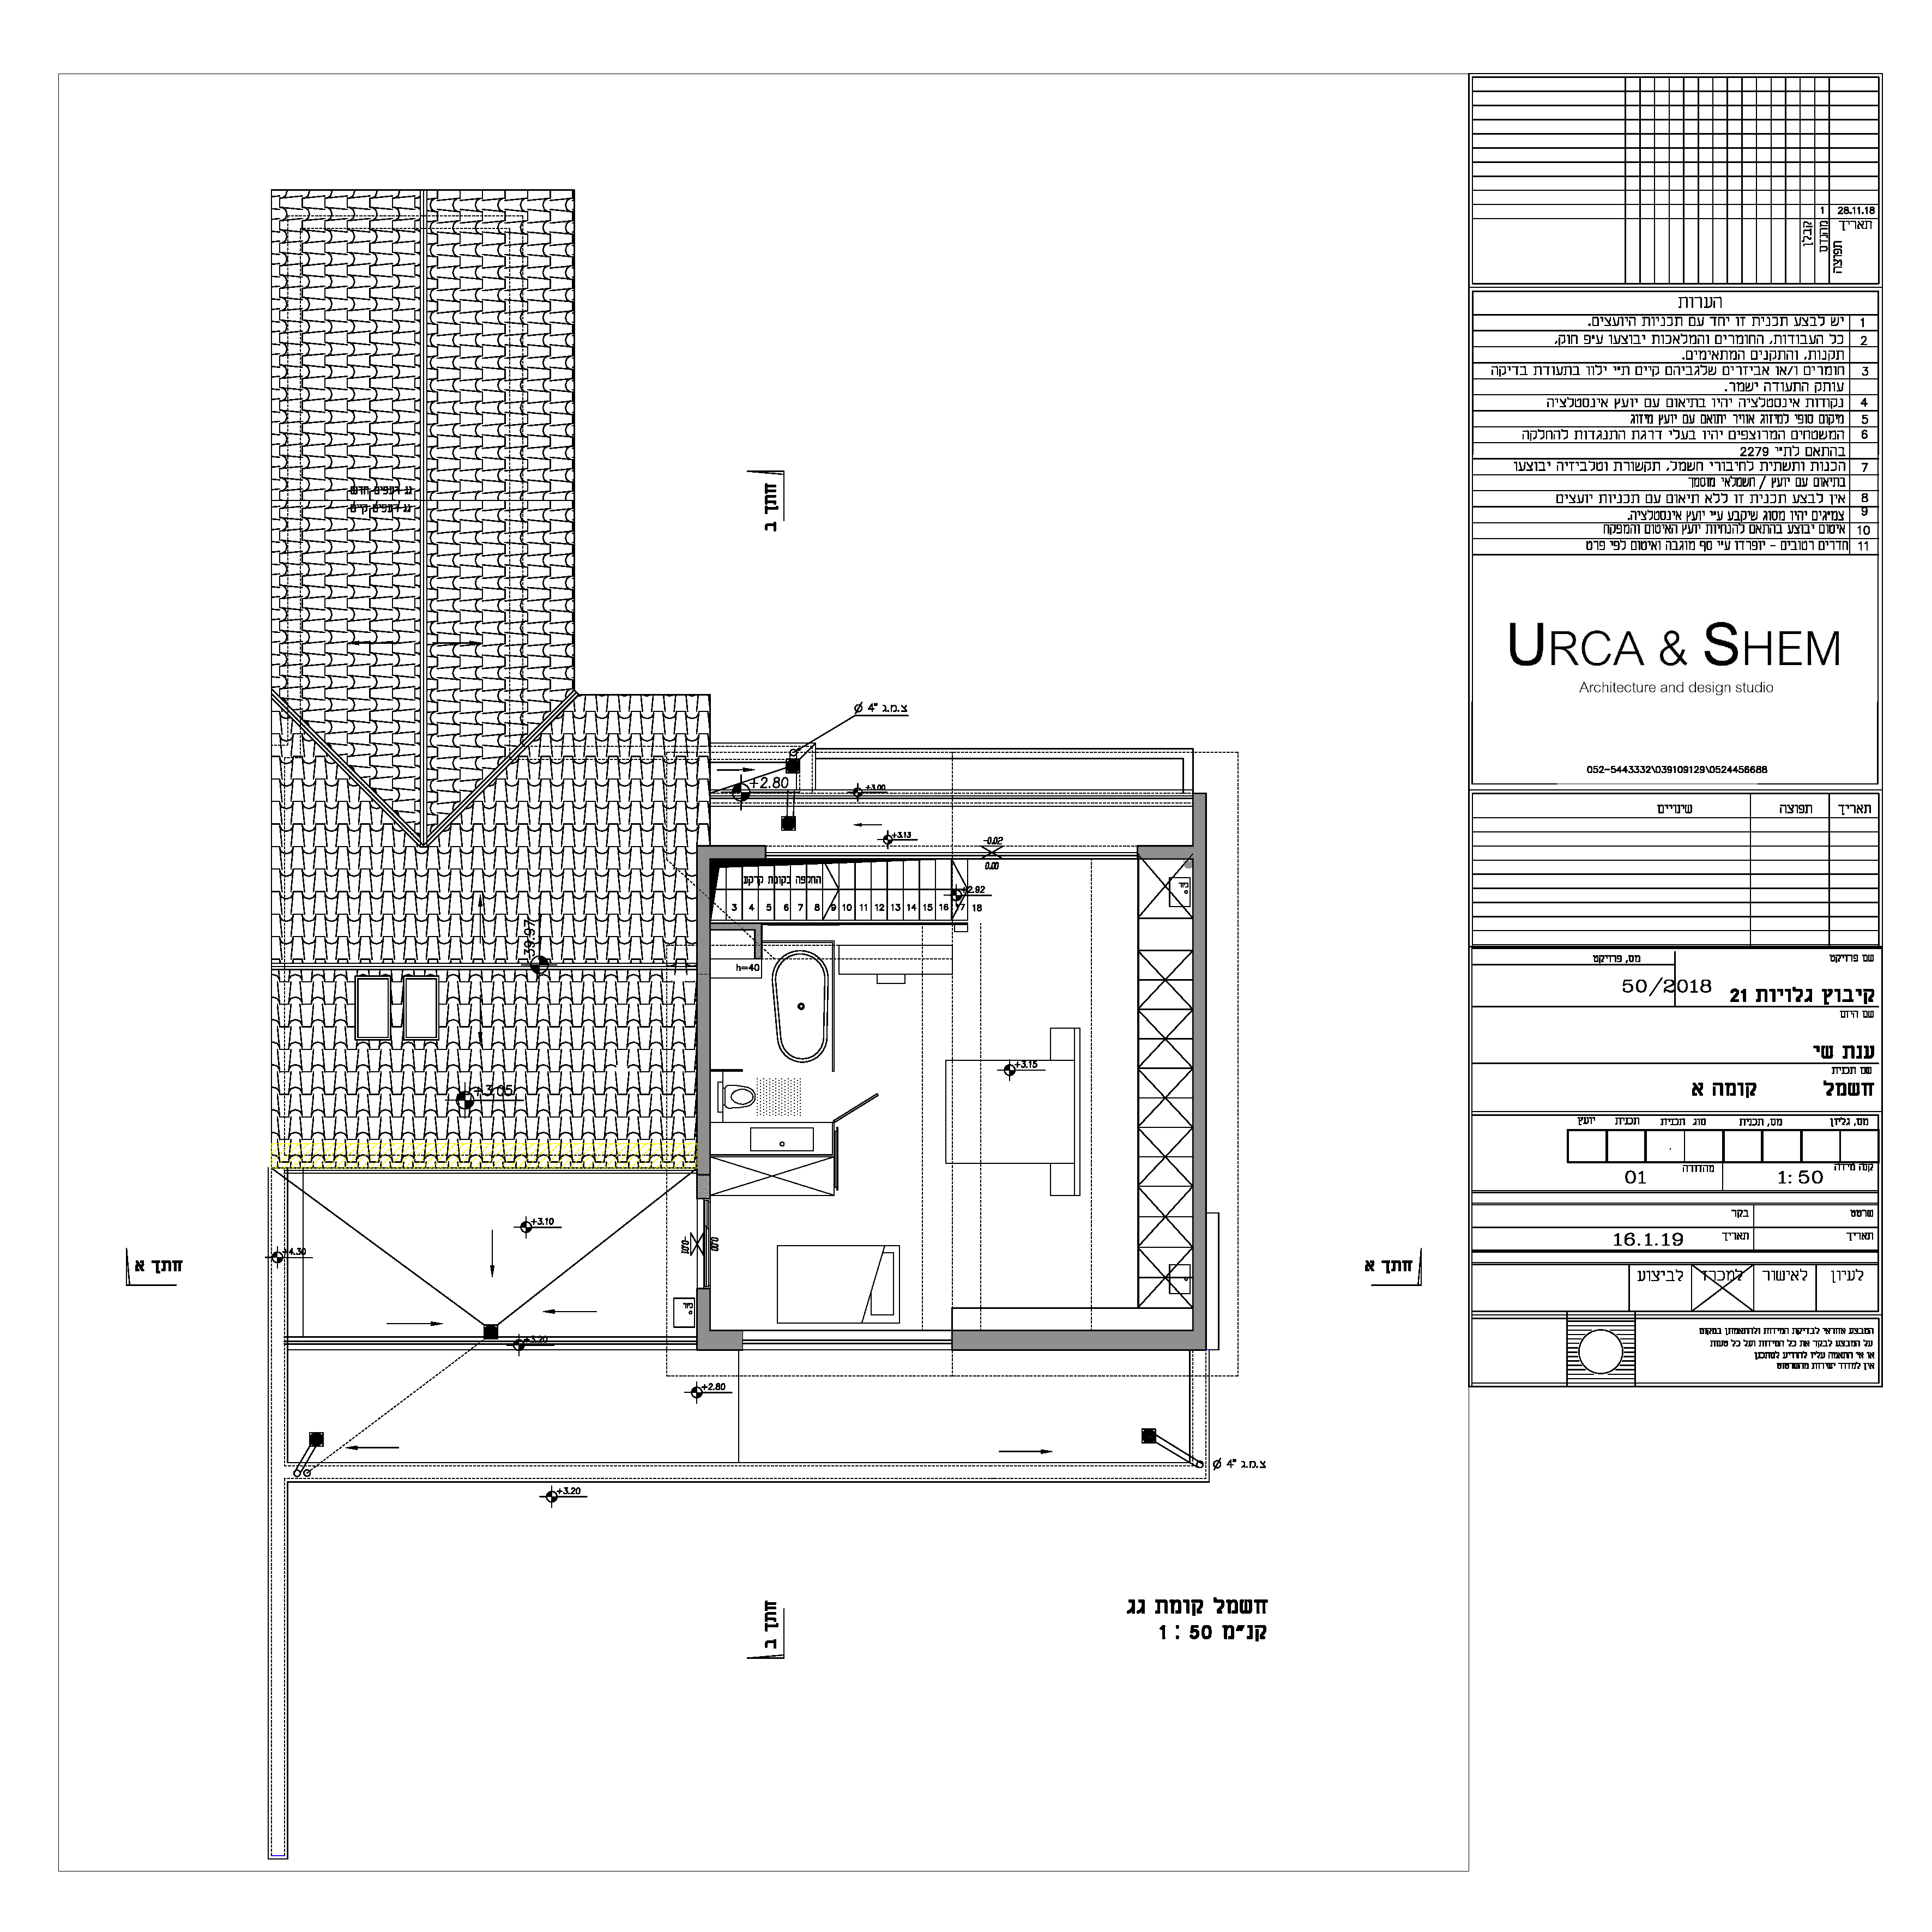wall: (1196, 798, 1205, 1336), (699, 939, 713, 1161), (955, 1332, 1192, 1345)
window: (740, 1325, 954, 1355)
